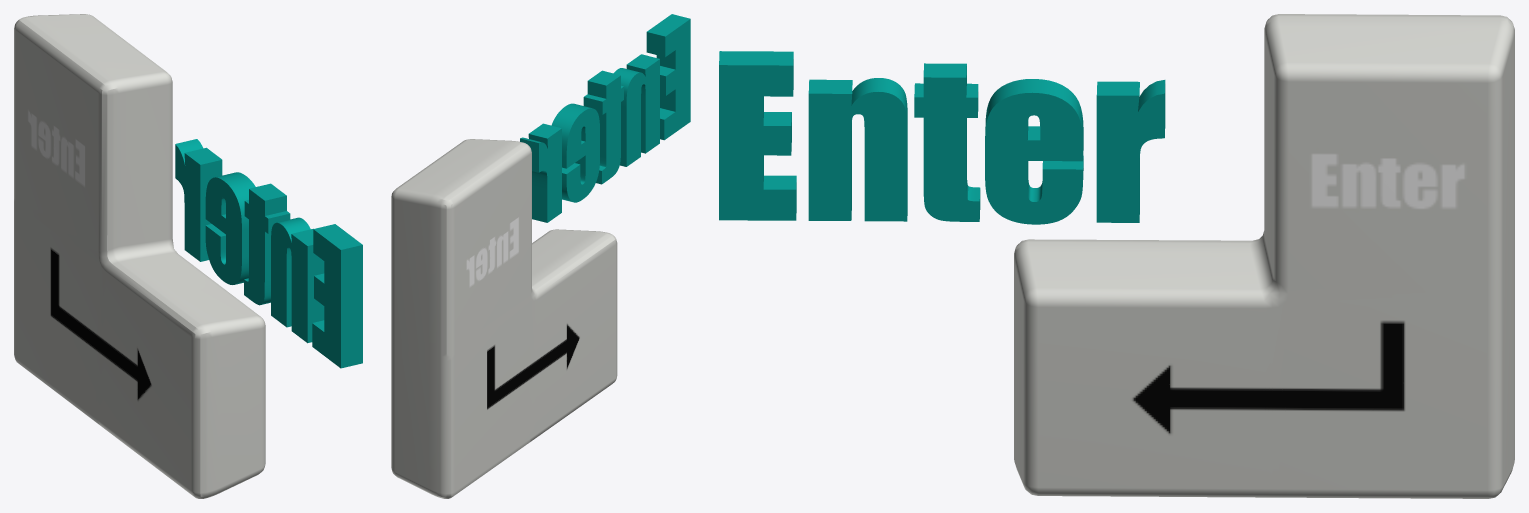
Rendered from HSBC Entorno_10_CAPAS_BOTONES Enter Salida.fbx.
3 renders of one model, left to right at view 1: azimuth 30°, elevation 25°; view 2: azimuth 150°, elevation 25°; view 3: azimuth 270°, elevation 25°, orthographic. The views are drawn at different scales.
Visible parts, largest first — view 1: enter.005, letras_enter.005; view 2: enter.005, letras_enter.005; view 3: enter.005, letras_enter.005.
Part boxes in pixels (bbox=[...]): enter.005: bbox=[14, 14, 265, 498]; letras_enter.005: bbox=[175, 139, 362, 368]; enter.005: bbox=[391, 139, 617, 498]; letras_enter.005: bbox=[520, 14, 690, 222]; enter.005: bbox=[1014, 14, 1514, 498]; letras_enter.005: bbox=[719, 51, 1165, 224].
Bounding box in the file's own units: 23 × 93.6 × 149.
